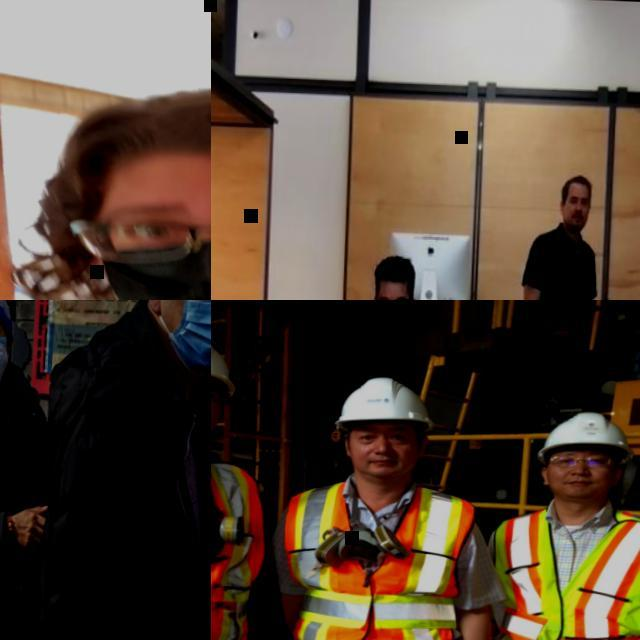helmet: (328, 374, 437, 430), (536, 406, 634, 458), (211, 328, 241, 386)
vest: (278, 478, 479, 640), (488, 505, 640, 640), (211, 441, 277, 640)
